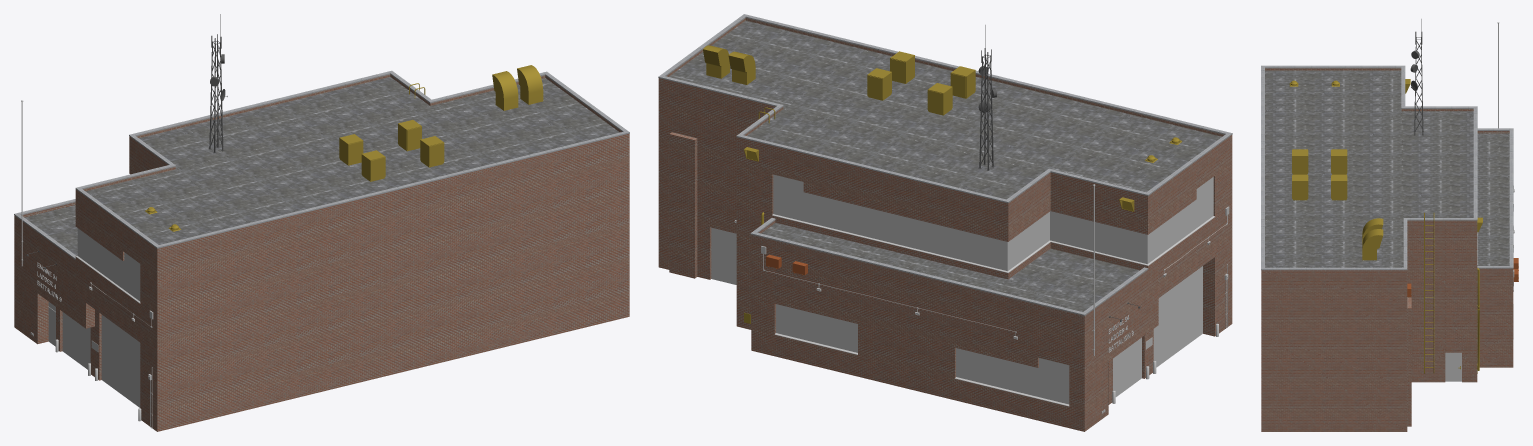
File: mcp_building_25_LOD_0.FBX
3 views of the same model, side by side, from view 1: azimuth 30°, elevation 25°; view 2: azimuth 150°, elevation 25°; view 3: azimuth 270°, elevation 25° (orthographic). The views are drawn at different scales.
Parts seen in each view (by area): view 1: mcp_building_25_walls, mcp_building_25, mcp_building_25_metal_01, mcp_building_25_props_01, mcp_building_25_props_04; view 2: mcp_building_25_walls, mcp_building_25, mcp_building_25_metal_01, mcp_building_25_props_01, mcp_building_25_props_04; view 3: mcp_building_25_walls, mcp_building_25_metal_01, mcp_building_25_props_01, mcp_building_25_props_04, mcp_building_25_door.
Boxes of the visible parts, x1,y1,x2,y2 form: mcp_building_25_walls: (14, 74, 629, 431); mcp_building_25: (21, 228, 153, 428); mcp_building_25_metal_01: (14, 70, 629, 303); mcp_building_25_props_01: (145, 65, 543, 231); mcp_building_25_props_04: (209, 14, 227, 152); mcp_building_25_walls: (658, 18, 1232, 431); mcp_building_25: (711, 174, 1229, 413); mcp_building_25_metal_01: (658, 14, 1232, 406); mcp_building_25_props_01: (703, 45, 1181, 323); mcp_building_25_props_04: (978, 25, 996, 170); mcp_building_25_walls: (1261, 68, 1513, 431); mcp_building_25_metal_01: (1261, 65, 1513, 338); mcp_building_25_props_01: (1289, 79, 1482, 373); mcp_building_25_props_04: (1410, 19, 1423, 135); mcp_building_25_door: (1445, 352, 1461, 381).
Size of the model in its own units: 4356 by 2735 by 2276.
